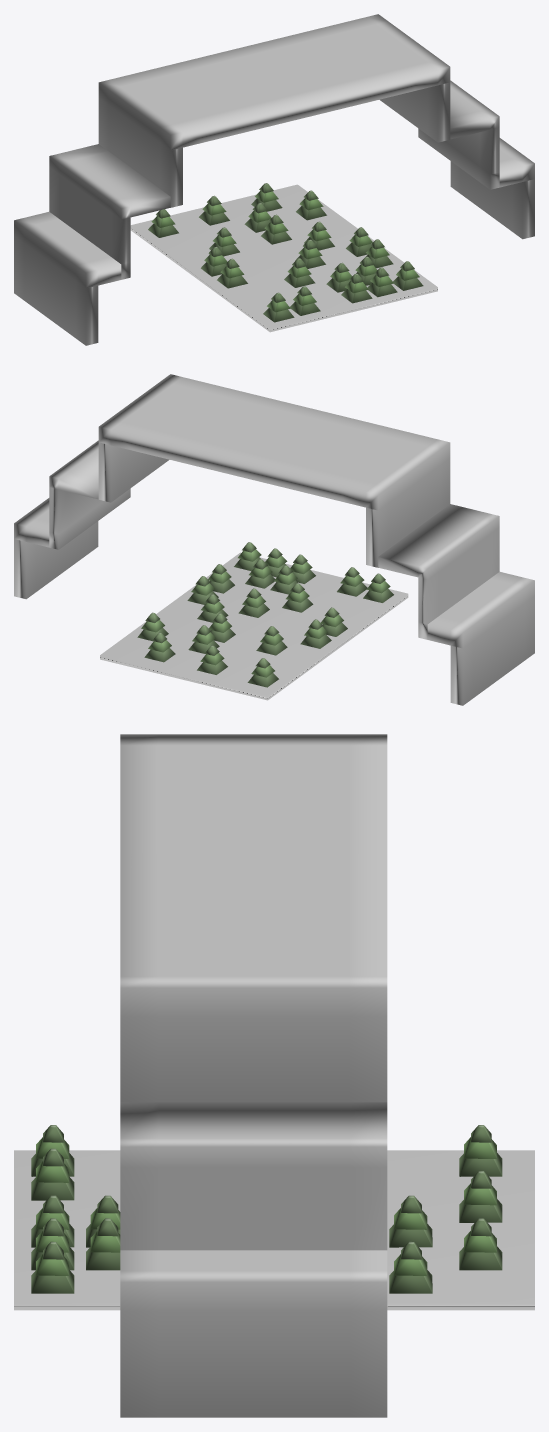
File: Rainbow.fbx
3 renders of one model, top to bottom at view 1: azimuth 30°, elevation 25°; view 2: azimuth 150°, elevation 25°; view 3: azimuth 270°, elevation 25°, orthographic. The views are drawn at different scales.
Visible parts, largest first — view 1: Cube_001, Cube, Tree_014, Tree_047, Tree_045, Tree_004, Tree_003, Tree_000, Tree_002, Tree_032, Tree_041, Tree_023 (+10 smaller); view 2: Cube_001, Cube, Tree_014, Tree_024, Tree_020, Tree_007, Tree_000, Tree_047, Tree_034, Tree_045, Tree_002, Tree_043 (+10 smaller); view 3: Cube_001, Cube, Tree_043, Tree_041, Tree_005, Tree_000, Tree_039, Tree_045, Tree_047, Tree_007, Tree_002, Tree_004 (+2 smaller).
Boxes of the visible parts, x1,y1,x2,y2 form: Cube_001: [14, 14, 534, 345]; Cube: [130, 184, 437, 332]; Tree_014: [284, 258, 315, 287]; Tree_047: [148, 209, 178, 237]; Tree_045: [199, 195, 229, 225]; Tree_004: [367, 267, 397, 297]; Tree_003: [341, 273, 372, 303]; Tree_000: [290, 286, 320, 315]; Tree_002: [263, 292, 294, 322]; Tree_032: [261, 214, 291, 244]; Tree_041: [296, 190, 326, 220]; Tree_023: [217, 258, 247, 288]; Cube_001: [14, 374, 534, 705]; Cube: [100, 552, 408, 700]; Tree_014: [282, 583, 313, 612]; Tree_024: [300, 619, 331, 648]; Tree_020: [238, 588, 269, 617]; Tree_007: [245, 559, 274, 588]; Tree_000: [337, 567, 367, 596]; Tree_047: [247, 658, 278, 687]; Tree_034: [256, 626, 287, 655]; Tree_045: [197, 645, 227, 674]; Tree_002: [363, 573, 393, 602]; Tree_043: [144, 632, 175, 662]; Cube_001: [120, 734, 387, 1417]; Cube: [14, 1150, 534, 1310]; Tree_043: [459, 1218, 502, 1270]; Tree_041: [389, 1241, 432, 1293]; Tree_005: [31, 1241, 74, 1293]; Tree_000: [31, 1148, 74, 1200]; Tree_039: [389, 1195, 432, 1247]; Tree_045: [459, 1171, 502, 1222]; Tree_047: [459, 1125, 502, 1176]; Tree_007: [86, 1218, 120, 1270]; Tree_002: [31, 1125, 74, 1176]; Tree_004: [31, 1218, 74, 1270].
Size of the model in its own units: 17.65 by 7.27 by 9.55.
